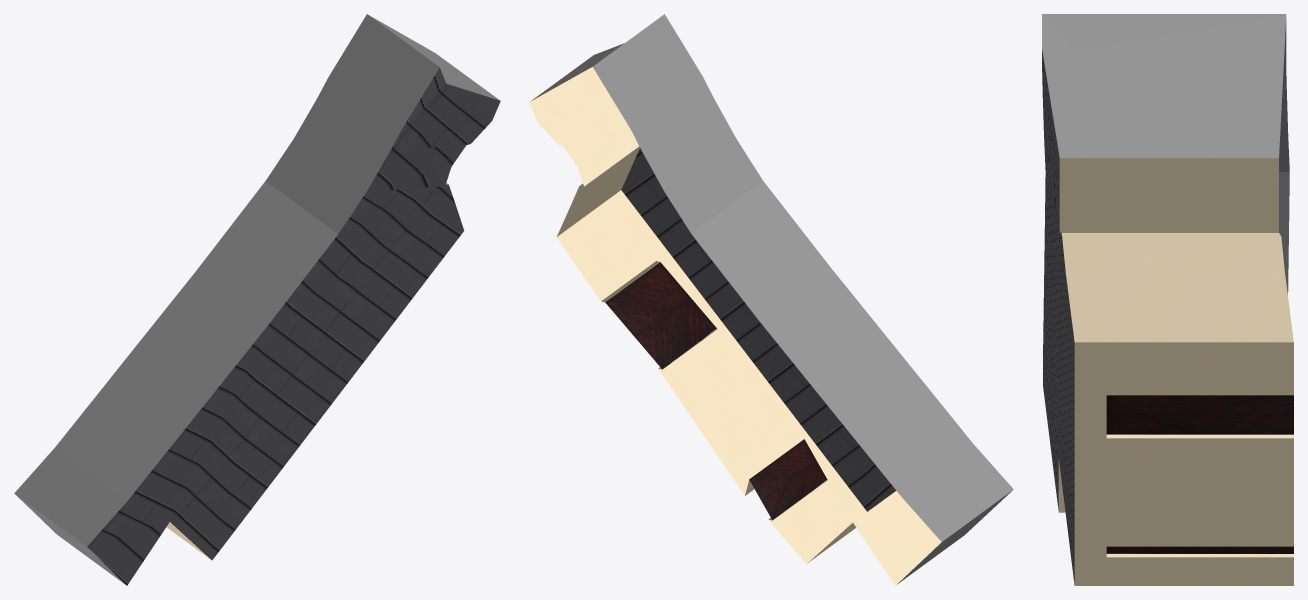
Rendered from Sauna_3a-origo.obj.
The picture shows the model from 3 angles, left to right: view 1: azimuth 30°, elevation 25°; view 2: azimuth 150°, elevation 25°; view 3: azimuth 270°, elevation 25°; orthographic projection. The views are drawn at different scales.
Parts seen in each view (by area): view 1: xxx, sauna3a; view 2: sauna3a, xxx; view 3: sauna3a, xxx.
Part boxes in pixels (box(x1,y1,x2,y2)): xxx: box(14, 14, 500, 585); sauna3a: box(87, 67, 500, 585); sauna3a: box(529, 67, 941, 585); xxx: box(530, 14, 1013, 584); sauna3a: box(1042, 49, 1293, 585); xxx: box(1042, 14, 1289, 294).
Size of the model in its own units: 12.25 by 12.5 by 3.8.
